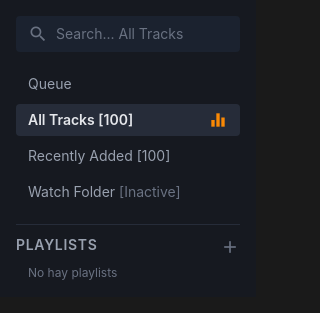
Test: Sidebar › Botón agregar playlist › debería mostrar input de edición al hacer click en el botón +
Click the button titled "Crear nuevo playlist".
click(230, 245)  # box [220, 233, 240, 257]
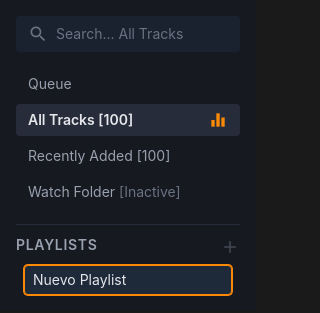
Now the field with placeholder "Nombre del playlist" holds "Nuevo Playlist", box [24, 265, 232, 295]
